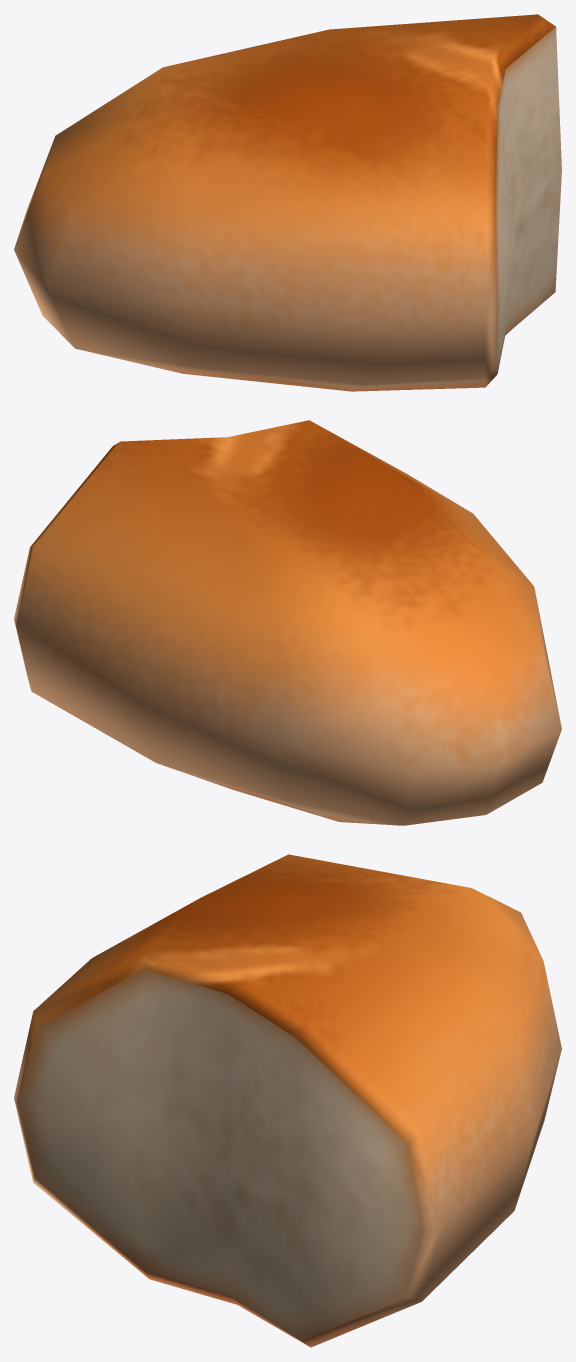
The model's file is French_Broken_1.fbx.
3 renders of one model, top to bottom at view 1: azimuth 30°, elevation 25°; view 2: azimuth 150°, elevation 25°; view 3: azimuth 270°, elevation 25°, orthographic. The views are drawn at different scales.
Visible parts, largest first — view 1: French_Broken_1; view 2: French_Broken_1; view 3: French_Broken_1.
Part boxes in pixels (x1=…): French_Broken_1: x1=14, y1=14, x2=561, y2=391; French_Broken_1: x1=14, y1=420, x2=561, y2=825; French_Broken_1: x1=14, y1=854, x2=561, y2=1347.
Size of the model in its own units: 32.19 by 16.89 by 25.45.
